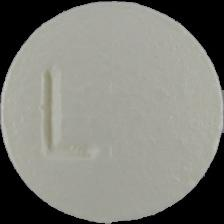16714-406: (0, 0, 224, 224)
